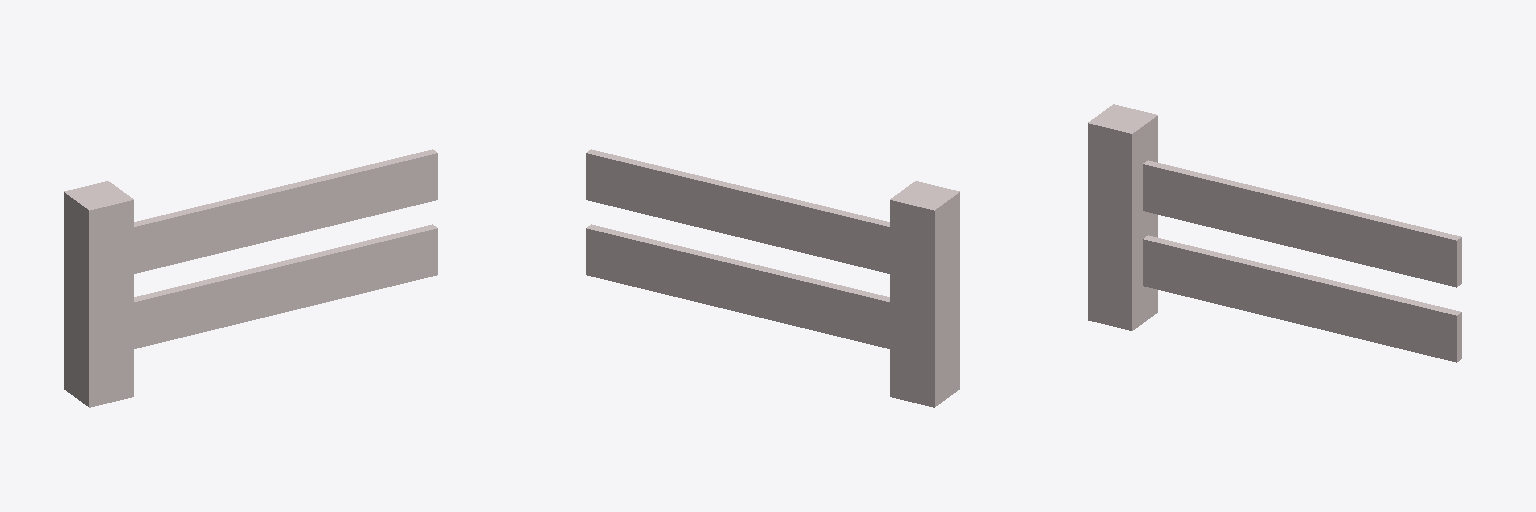
3 views of the same model, side by side, from view 1: azimuth 30°, elevation 25°; view 2: azimuth 150°, elevation 25°; view 3: azimuth 330°, elevation 25° (orthographic).
Visible parts, largest first — view 1: object 1; view 2: object 1; view 3: object 1.
Part boxes in pixels (x1,y1,x2,y2): object 1: (64, 149, 437, 407); object 1: (586, 149, 959, 407); object 1: (1088, 104, 1461, 362).
Size of the model in its own units: 4 by 2.1 by 0.5.
Materials: 1 (1 with a texture image).